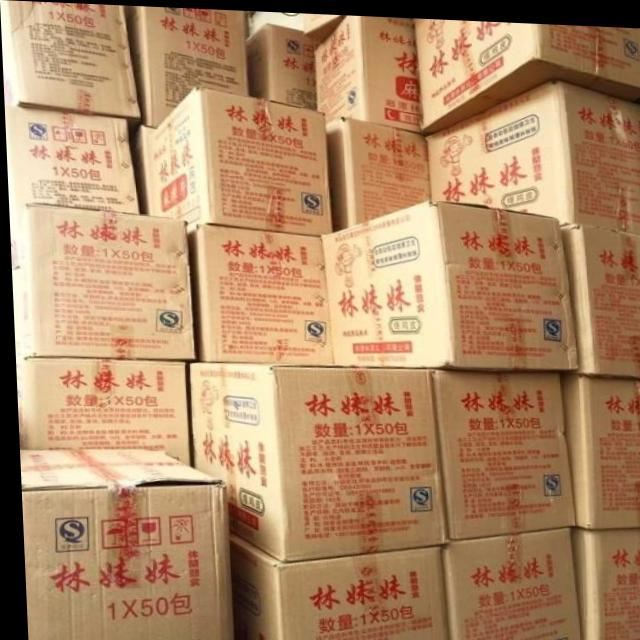box: (181, 360, 447, 559), (319, 196, 577, 366), (16, 448, 229, 640), (423, 76, 640, 229), (7, 202, 193, 358), (143, 84, 333, 234), (413, 15, 640, 131), (430, 367, 574, 539), (222, 530, 445, 640), (0, 0, 140, 149), (185, 225, 331, 363), (12, 357, 186, 465), (437, 523, 579, 640), (123, 4, 249, 126), (4, 107, 139, 213), (556, 368, 640, 527), (312, 12, 421, 130), (559, 217, 640, 372), (323, 113, 429, 229), (563, 523, 640, 640), (244, 20, 325, 107), (129, 124, 153, 214), (247, 12, 304, 36), (301, 13, 347, 37)
